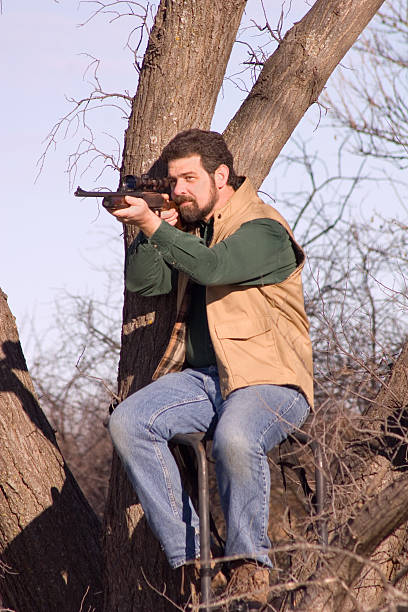gun: (73, 175, 170, 220)
